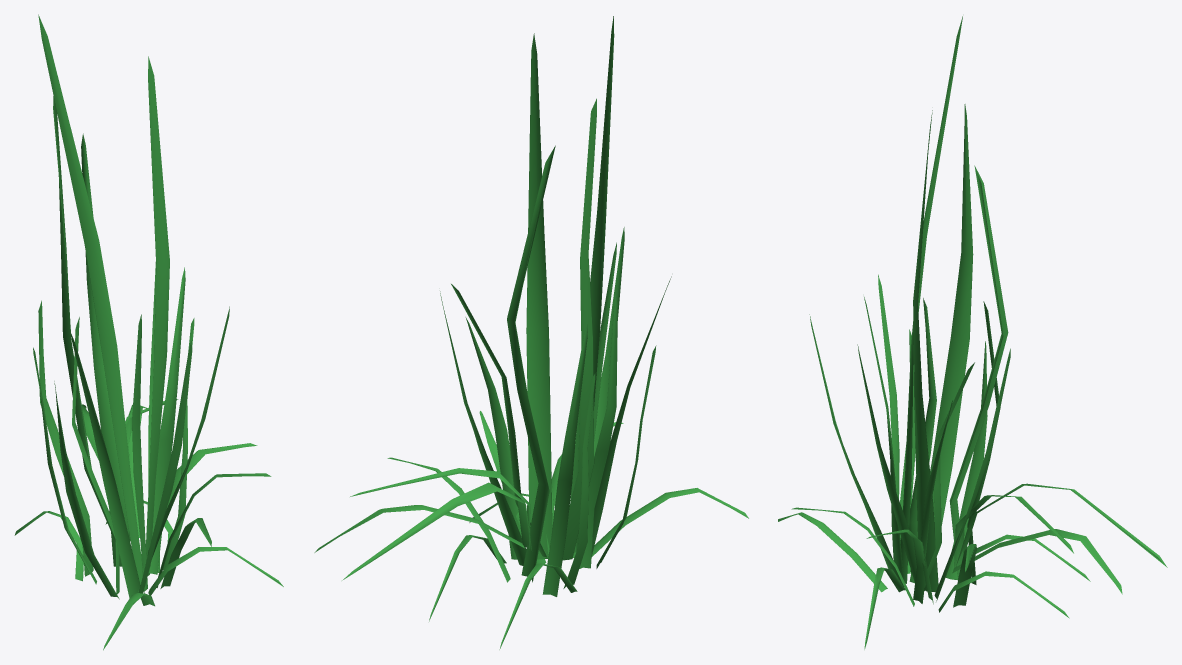
Rendered from SM_Herbe2.fbx.
The picture shows the model from 3 angles, left to right: view 1: azimuth 30°, elevation 25°; view 2: azimuth 150°, elevation 25°; view 3: azimuth 270°, elevation 25°; orthographic projection. The views are drawn at different scales.
Parts seen in each view (by area): view 1: SM_Herbe_01; view 2: SM_Herbe_01; view 3: SM_Herbe_01.
Boxes of the visible parts, box(x1,y1,x2,y2) form: SM_Herbe_01: box(14, 14, 283, 650); SM_Herbe_01: box(314, 16, 748, 649); SM_Herbe_01: box(778, 16, 1167, 649).
Bounding box in the file's own units: 13.61 × 19.2 × 29.78.
1 material, 1 textured.
